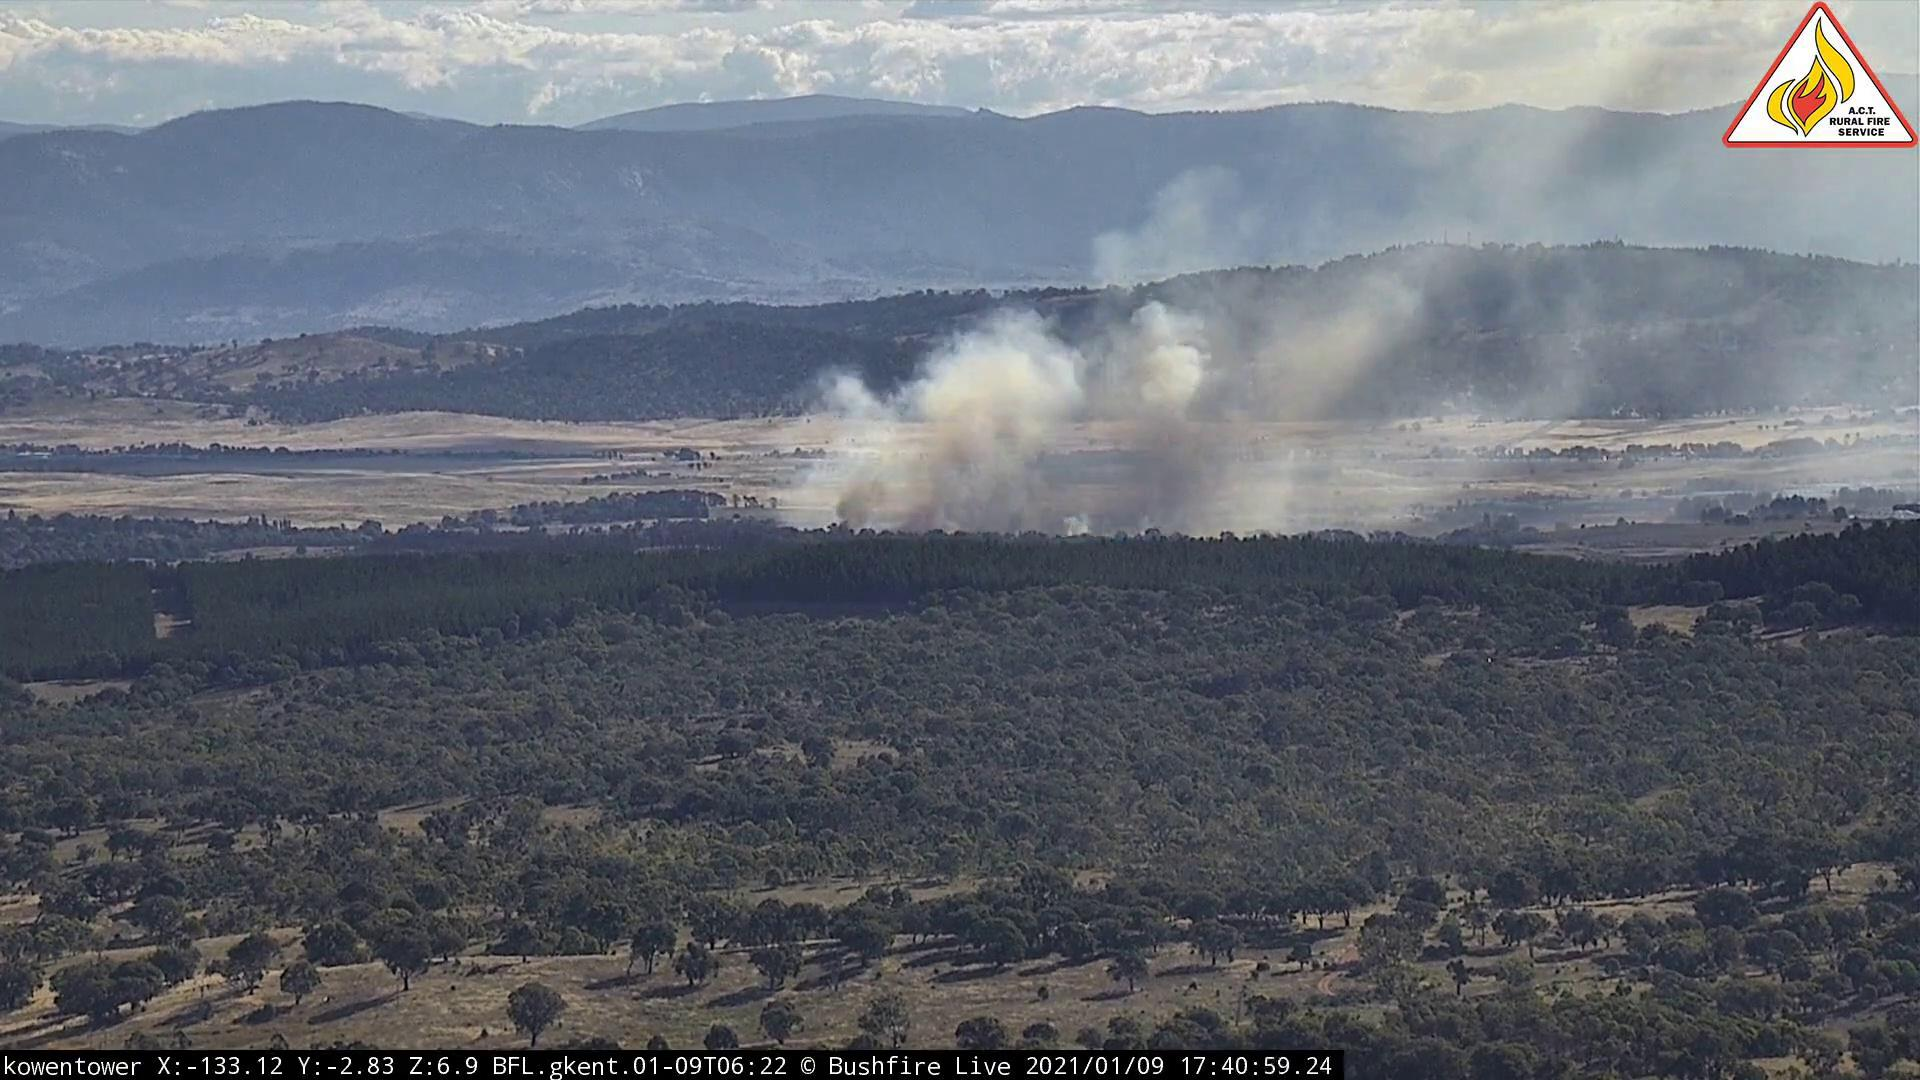Smoke: (738, 113, 1717, 546)
